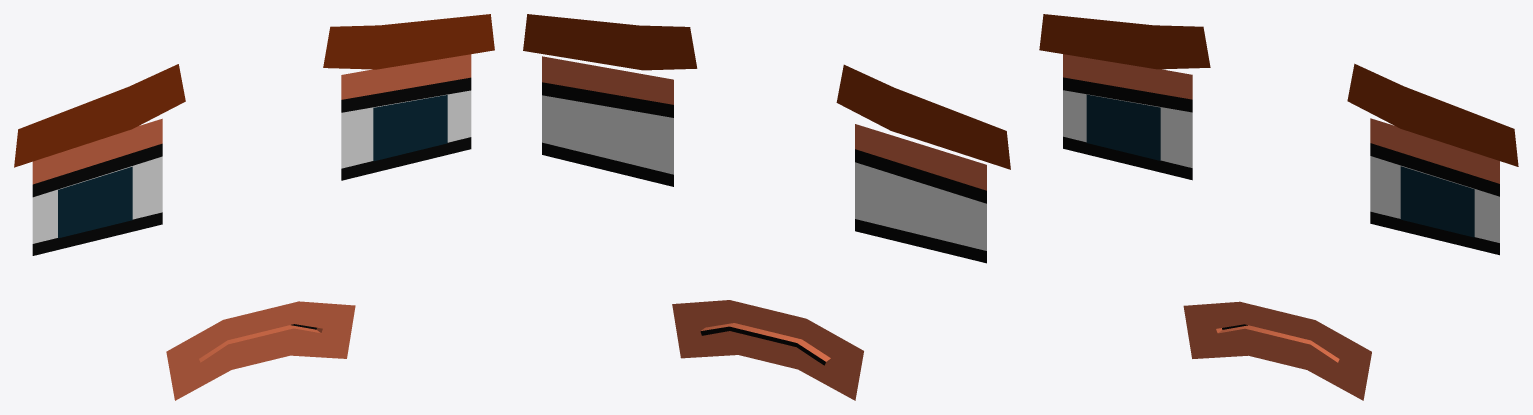
File: Face Female 08.FBX
3 views of the same model, side by side, from view 1: azimuth 30°, elevation 25°; view 2: azimuth 150°, elevation 25°; view 3: azimuth 330°, elevation 25° (orthographic).
Parts seen in each view (by area): view 1: Face Female 08; view 2: Face Female 08; view 3: Face Female 08.
Part boxes in pixels (box(x1,y1,x2,y2)): Face Female 08: box(14, 14, 494, 400); Face Female 08: box(523, 14, 1010, 400); Face Female 08: box(1039, 14, 1518, 400).
Size of the model in its own units: 44.14 by 29.17 by 1.01.
Materials: 1 (1 with a texture image).
